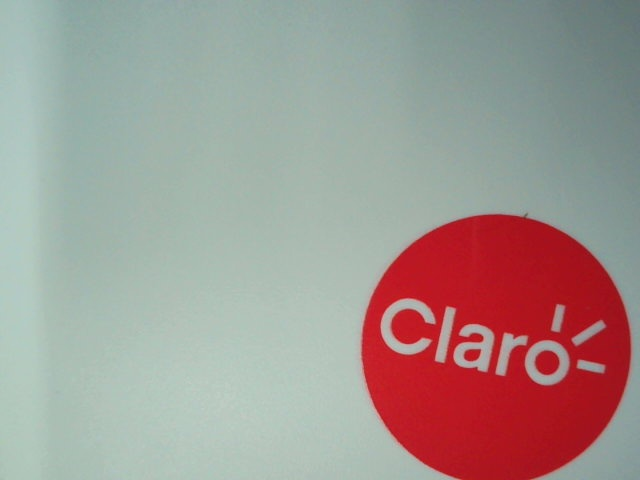BC_ClaorRed: (361, 204, 639, 478)
